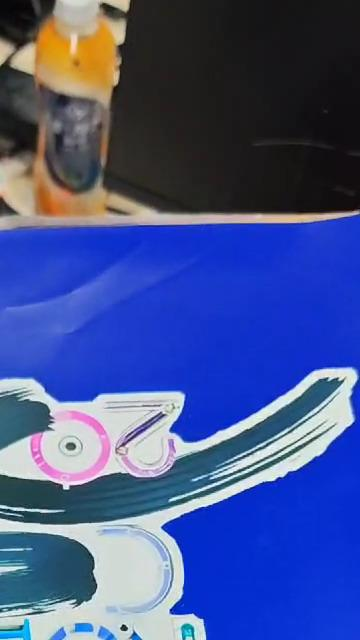B_R1: (0, 349, 359, 640)
